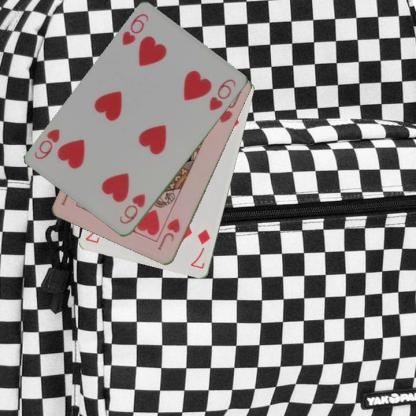6h: (119, 11, 150, 47), (116, 191, 147, 226)
7d: (188, 226, 212, 271)
Jh: (155, 216, 182, 253)
